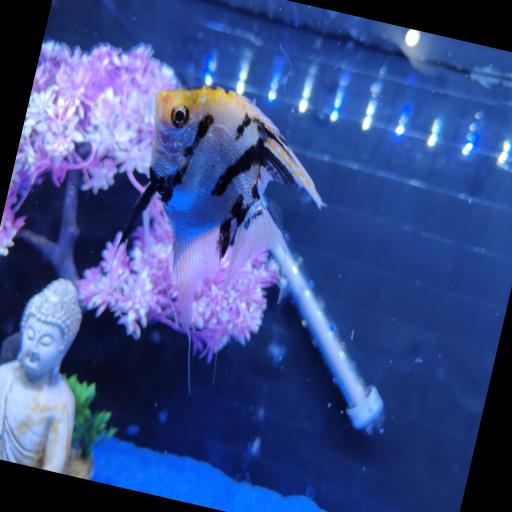Fish: (121, 87, 324, 331)
